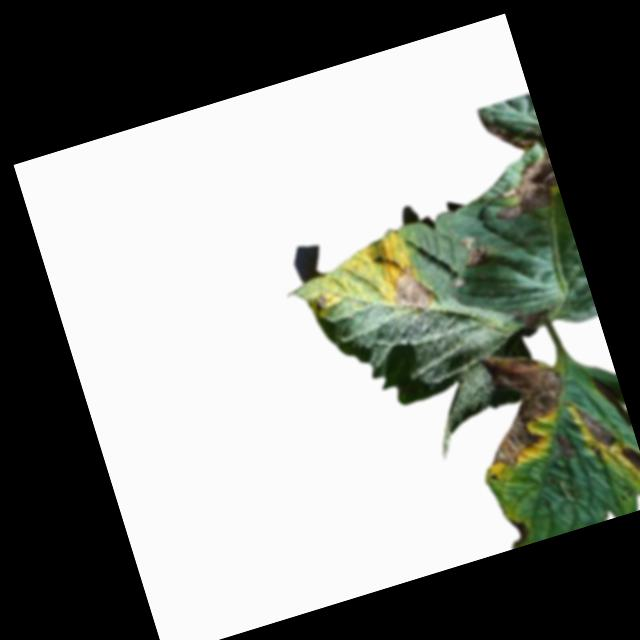Early_blight: (460, 334, 584, 477), (470, 108, 564, 225), (383, 259, 438, 319), (573, 395, 619, 454), (458, 233, 491, 269), (502, 513, 532, 549), (620, 442, 640, 479), (309, 289, 332, 314)
